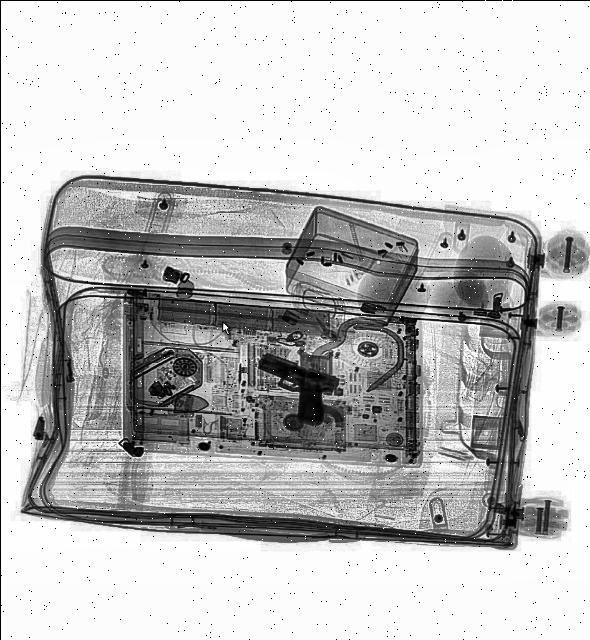Gun: (242, 347, 338, 425)
